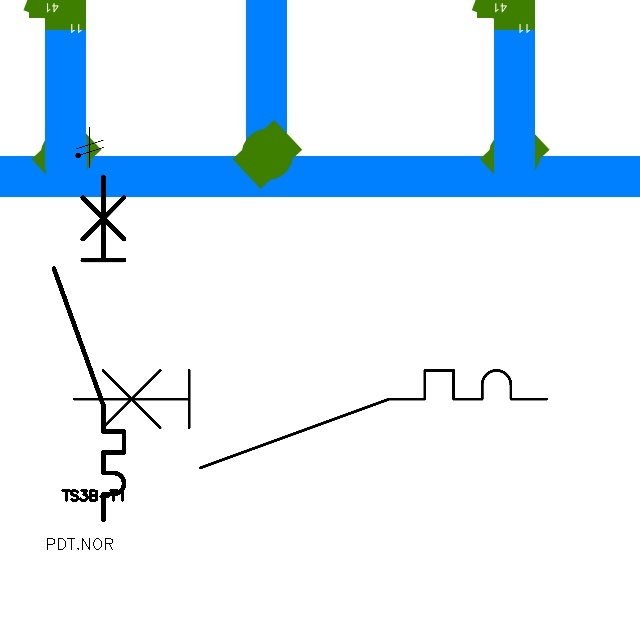interruptor_termomagnetico: (62, 358, 559, 479), (45, 167, 133, 528)
